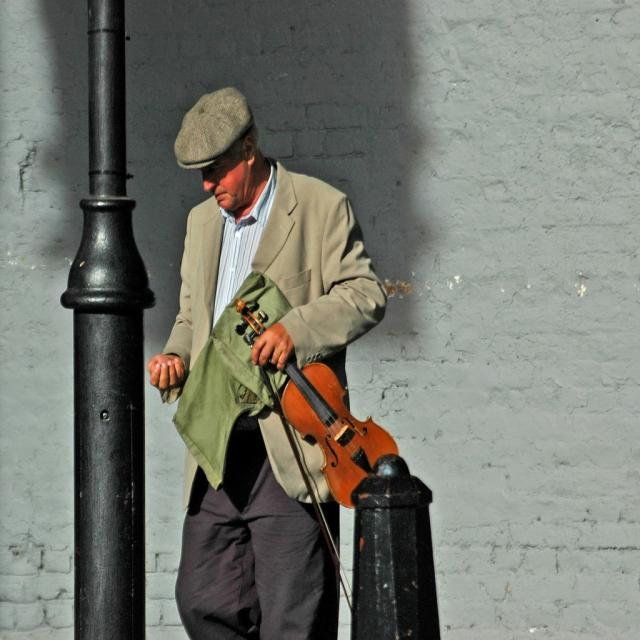violin: (232, 297, 399, 508)
